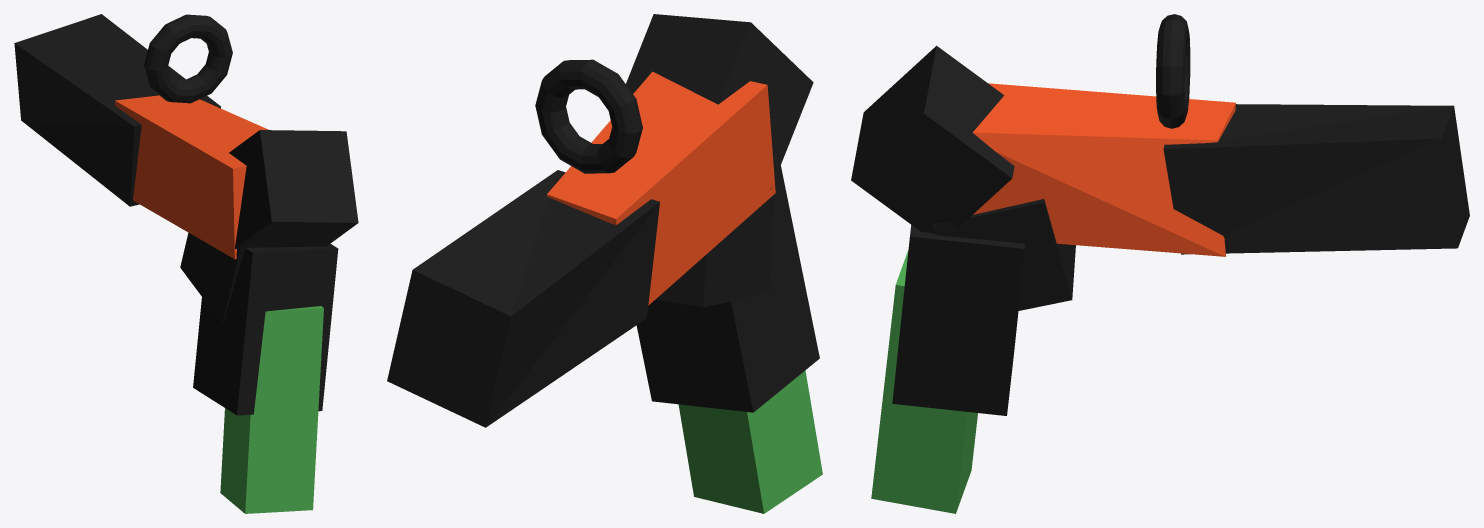
The model's file is Gun_Rowan.fbx.
3 renders of one model, left to right at view 1: azimuth 30°, elevation 25°; view 2: azimuth 150°, elevation 25°; view 3: azimuth 270°, elevation 25°, orthographic. The views are drawn at different scales.
Parts seen in each view (by area): view 1: mesh_1634990918, mesh_252298949, mesh_1878994529, mesh_948845981, mesh_2044031873, mesh_91188253, mesh_693807299; view 2: mesh_1634990918, mesh_1878994529, mesh_948845981, mesh_252298949, mesh_2044031873, mesh_91188253, mesh_693807299; view 3: mesh_1634990918, mesh_1878994529, mesh_948845981, mesh_2044031873, mesh_252298949, mesh_693807299, mesh_91188253.
Part boxes in pixels (box(x1,y1,x2,y2)): mesh_1634990918: box(14, 14, 220, 206); mesh_252298949: box(220, 306, 323, 513); mesh_1878994529: box(115, 95, 268, 259); mesh_948845981: box(193, 244, 338, 415); mesh_2044031873: box(229, 130, 358, 251); mesh_91188253: box(144, 14, 232, 103); mesh_693807299: box(180, 232, 255, 323); mesh_1634990918: box(387, 170, 659, 427); mesh_1878994529: box(546, 71, 775, 305); mesh_948845981: box(636, 165, 819, 412); mesh_252298949: box(678, 370, 822, 513); mesh_2044031873: box(626, 14, 813, 189); mesh_91188253: box(535, 59, 642, 173); mesh_693807299: box(656, 179, 775, 307); mesh_1634990918: box(1163, 104, 1469, 254); mesh_1878994529: box(972, 83, 1235, 256); mesh_948845981: box(892, 225, 1024, 415); mesh_2044031873: box(851, 45, 1014, 233); mesh_252298949: box(871, 249, 977, 513); mesh_693807299: box(932, 199, 1075, 310); mesh_91188253: box(1156, 14, 1190, 128).
Size of the model in its own units: 5.74 by 18.74 by 21.47.
